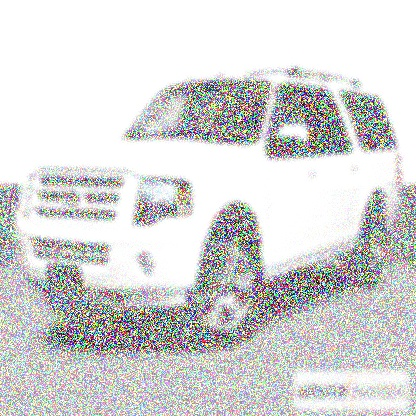Vehicle: (13, 64, 406, 350)
